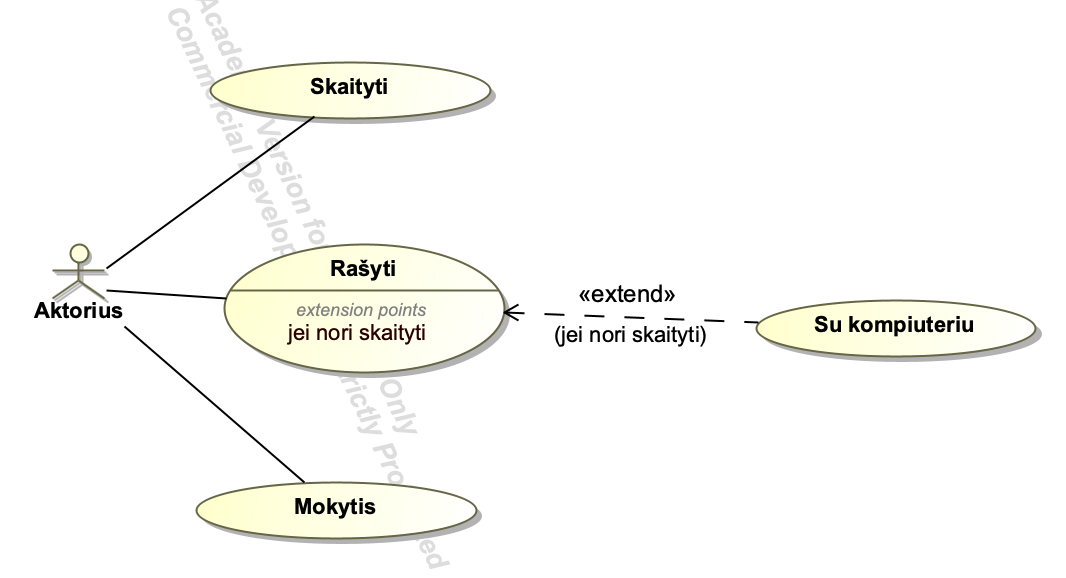actor: (48, 239, 106, 303)
association: (106, 118, 311, 272), (121, 322, 304, 481), (503, 301, 755, 327), (107, 284, 221, 308)
text: (277, 297, 443, 355), (551, 319, 714, 354), (810, 311, 980, 336), (280, 489, 386, 529), (580, 281, 682, 310), (306, 72, 399, 103), (318, 256, 407, 286), (31, 298, 122, 323)
use_case: (222, 242, 508, 376), (194, 479, 481, 543), (209, 59, 495, 121), (755, 297, 1040, 359)
